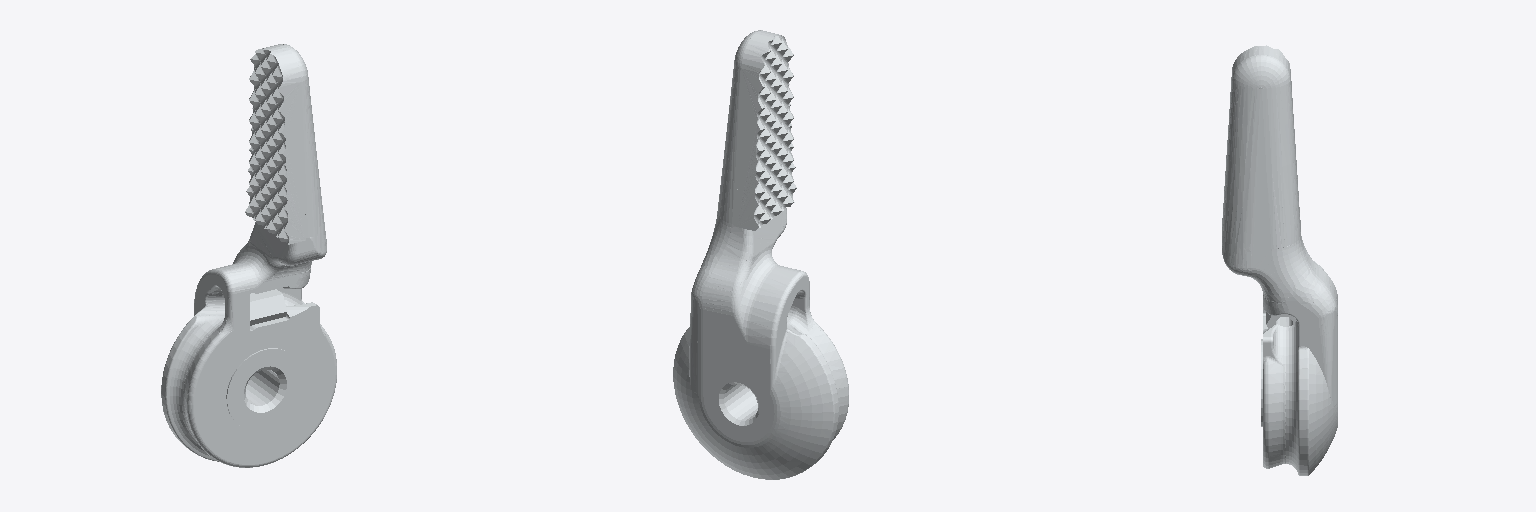
Rendered from gripper_right.OBJ.
The picture shows the model from 3 angles: view 1: azimuth 30°, elevation 25°; view 2: azimuth 150°, elevation 25°; view 3: azimuth 270°, elevation 25°; orthographic projection.
Parts seen in each view (by area): view 1: gripper_right_Shape_IndexedFaceSet.022; view 2: gripper_right_Shape_IndexedFaceSet.022; view 3: gripper_right_Shape_IndexedFaceSet.022.
Part boxes in pixels (bbox=[...]): gripper_right_Shape_IndexedFaceSet.022: bbox=[161, 44, 336, 467]; gripper_right_Shape_IndexedFaceSet.022: bbox=[673, 30, 848, 479]; gripper_right_Shape_IndexedFaceSet.022: bbox=[1222, 45, 1337, 475].
Bounding box in the file's own units: 0.0048 × 0.0121 × 0.003.